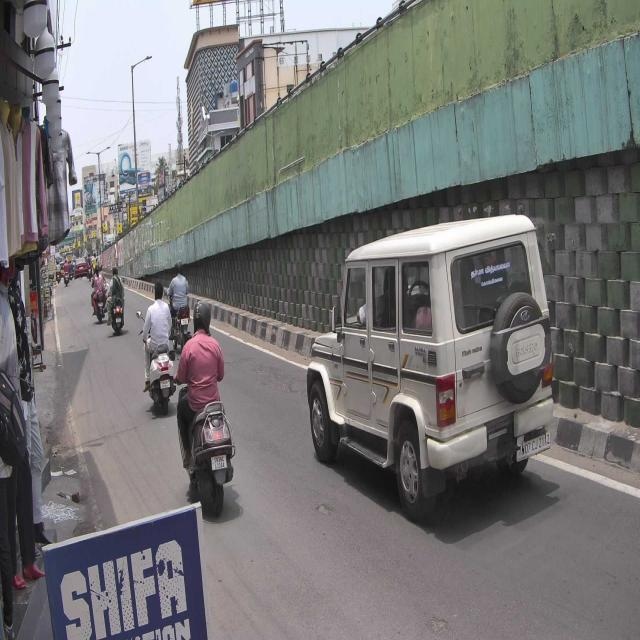single_rider: (174, 294, 234, 516)
